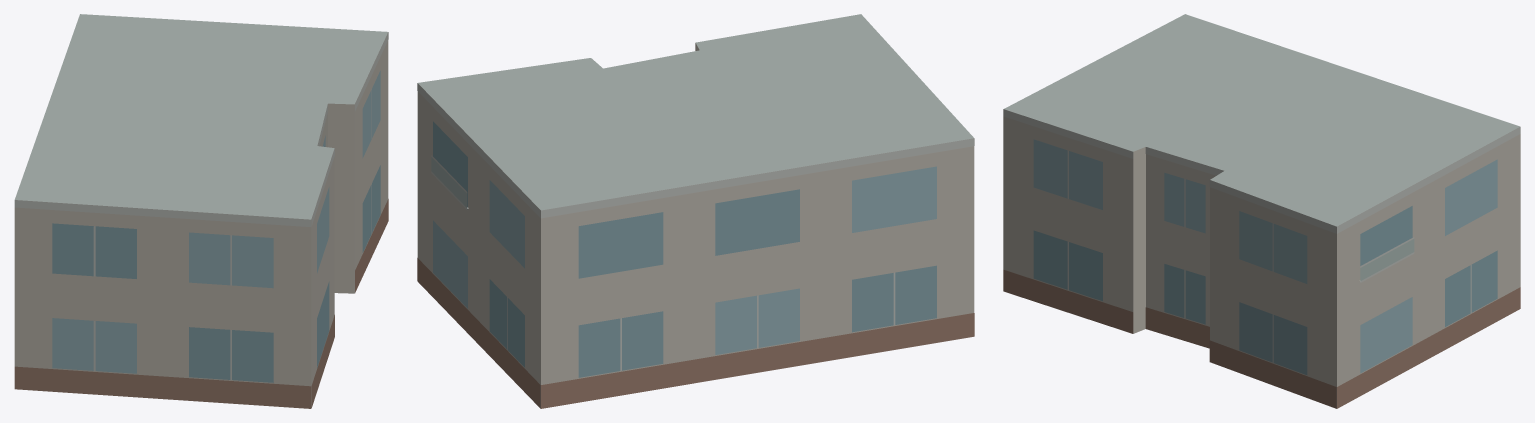
Rendered from survey-upis-32564391.glb.
The picture shows the model from 3 angles, left to right: view 1: azimuth 30°, elevation 25°; view 2: azimuth 150°, elevation 25°; view 3: azimuth 270°, elevation 25°; orthographic projection. The views are drawn at different scales.
Parts seen in each view (by area): view 1: survey-upis-32564391.tmp; view 2: survey-upis-32564391.tmp; view 3: survey-upis-32564391.tmp.
Boxes of the visible parts, x1,y1,x2,y2 form: survey-upis-32564391.tmp: (14,14,388,408); survey-upis-32564391.tmp: (417,14,974,408); survey-upis-32564391.tmp: (1003,14,1520,408).
Size of the model in its own units: 15.27 by 6.1 by 15.69.
